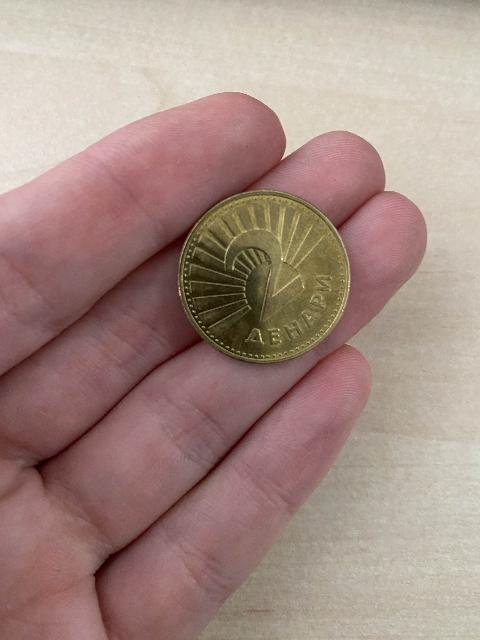2_coin: (179, 191, 349, 362)
